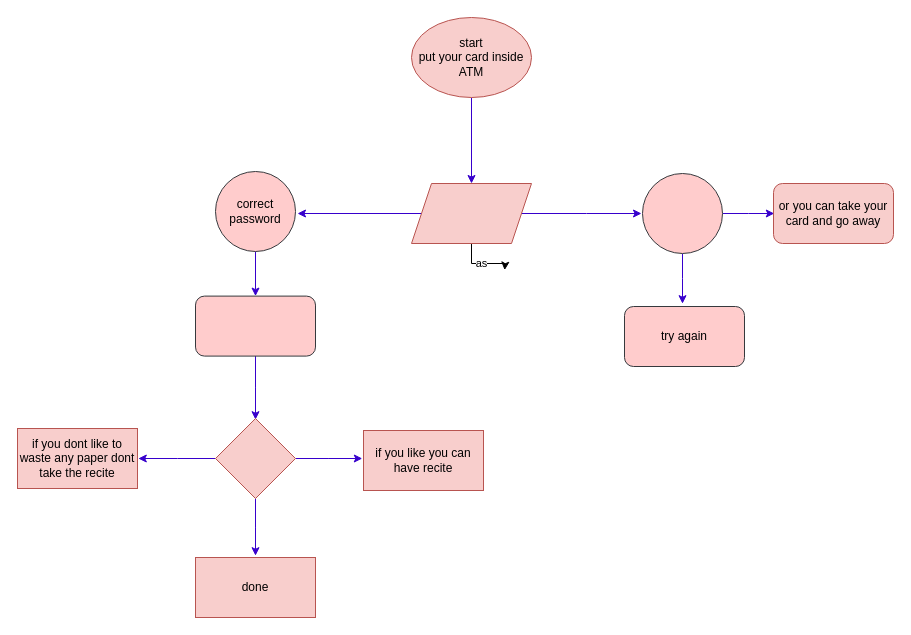
Image size: 911x635. Some labels were removed from this diagram. The shapes that lost their labels are listed below. From the top down, each one's centre as x and y in pixels, then its label:
At point 471,213: "enter password".
At point 682,213: "wrong password".
At point 255,325: "enter how much money you want".
At point 255,458: "take your money".
